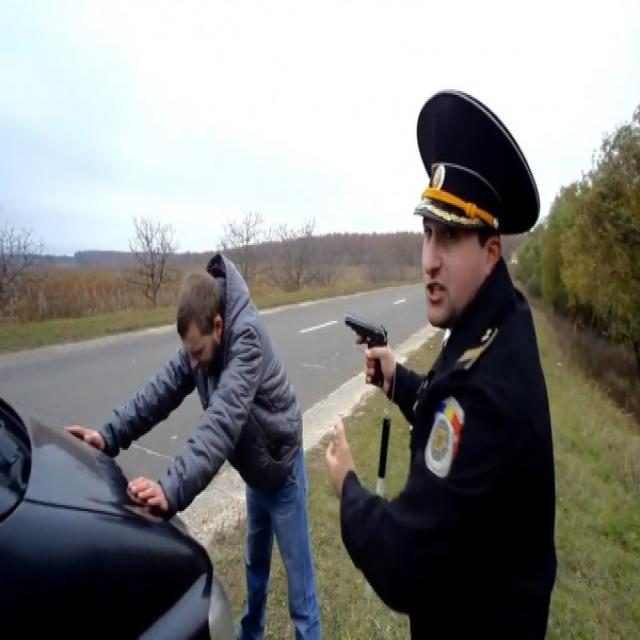weapons: (329, 293, 402, 407)
